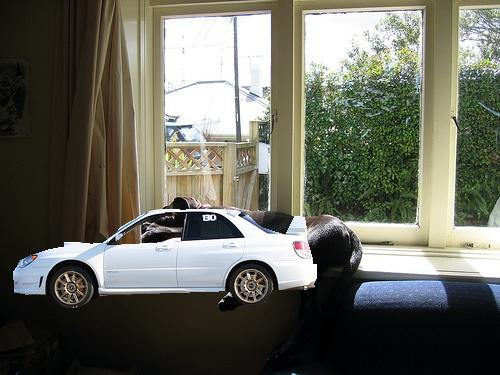tampered: (14, 210, 317, 308)
